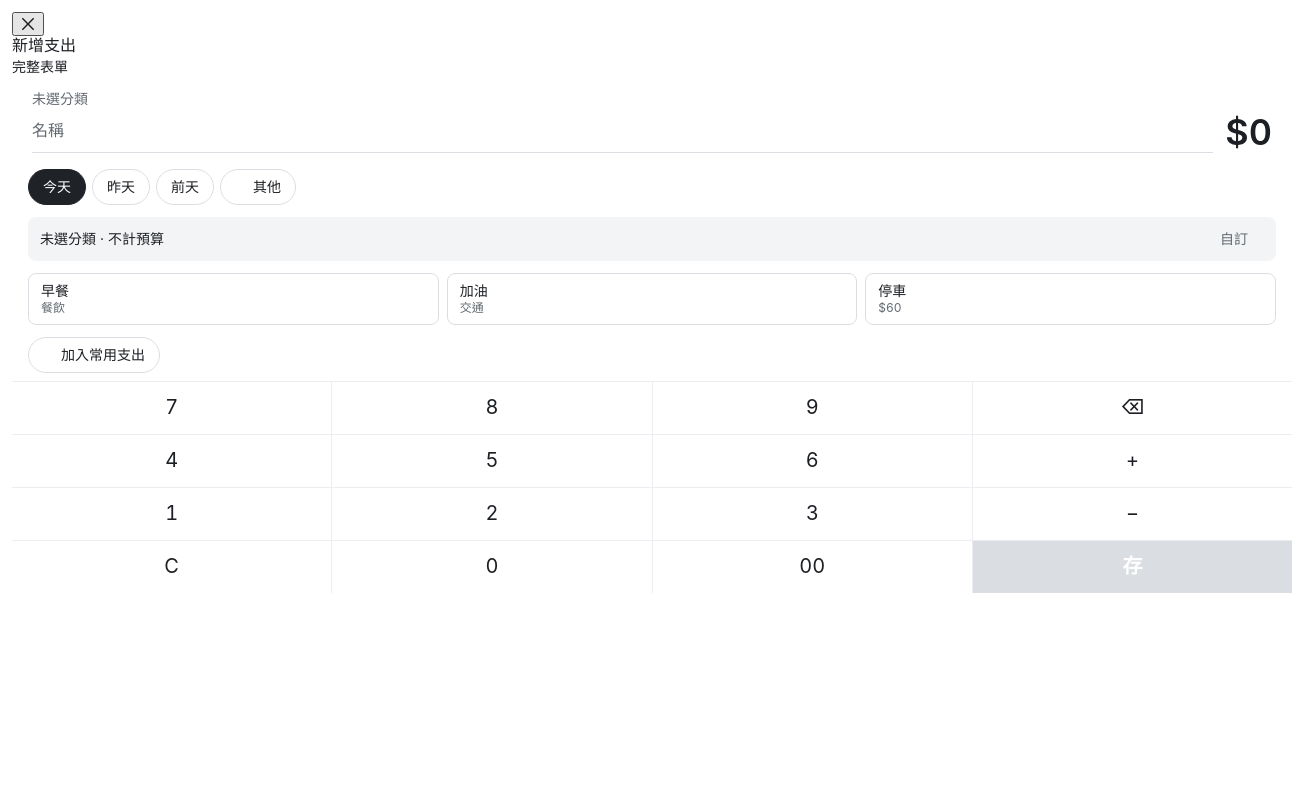
Scenario: <QuickExpenseSheet /> › hides the keypad while the name is focused
Click the field labelled "名稱" at [623, 131], box 32,109 -> 1213,153
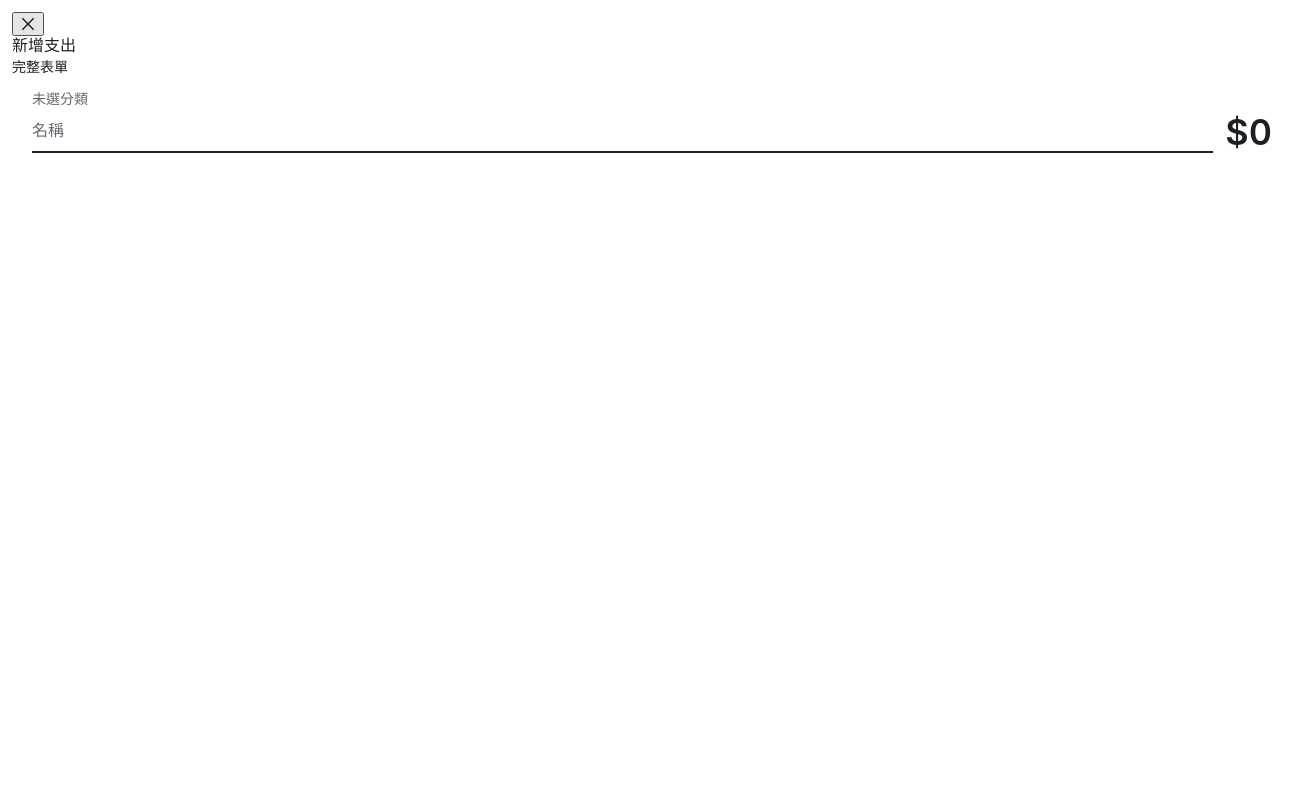
Check: the button "存" is gone
Press Enter
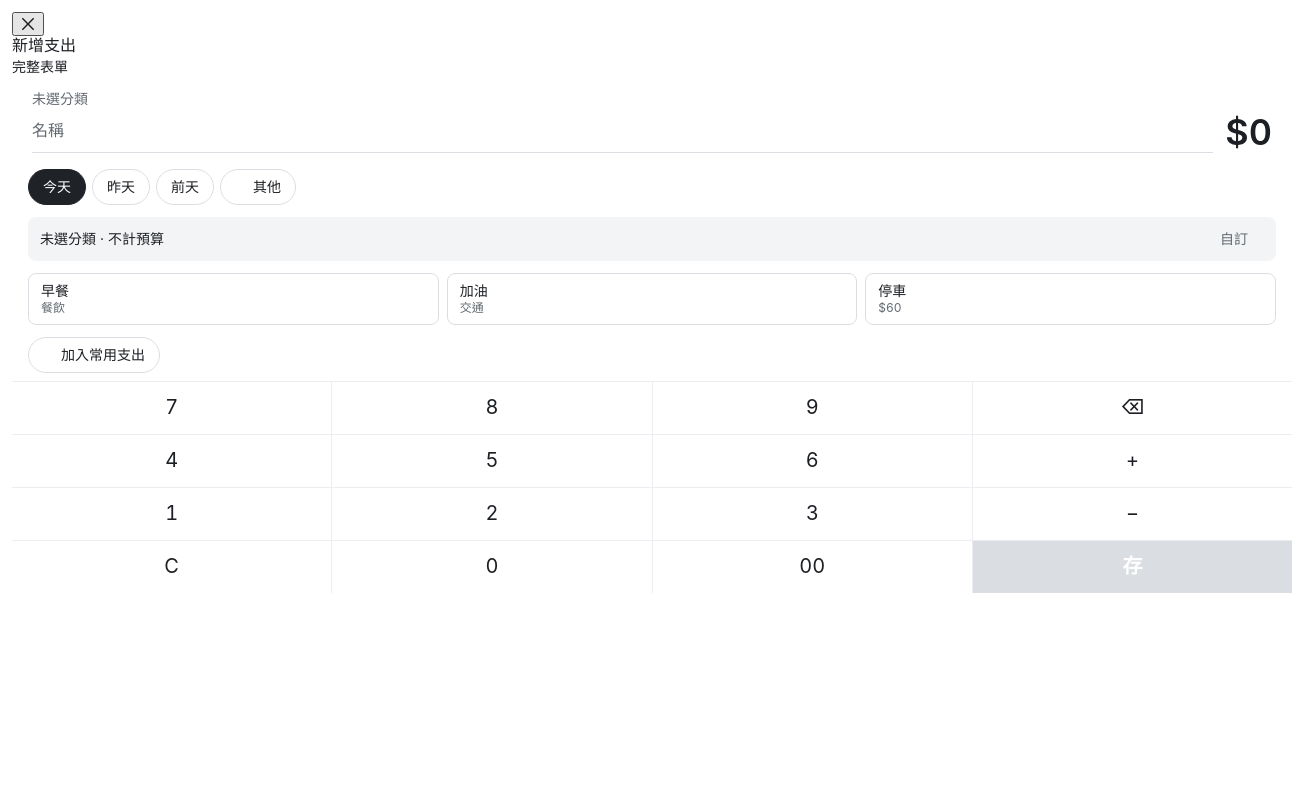
Check: the button "存" is shown, box 973,541 -> 1292,593
